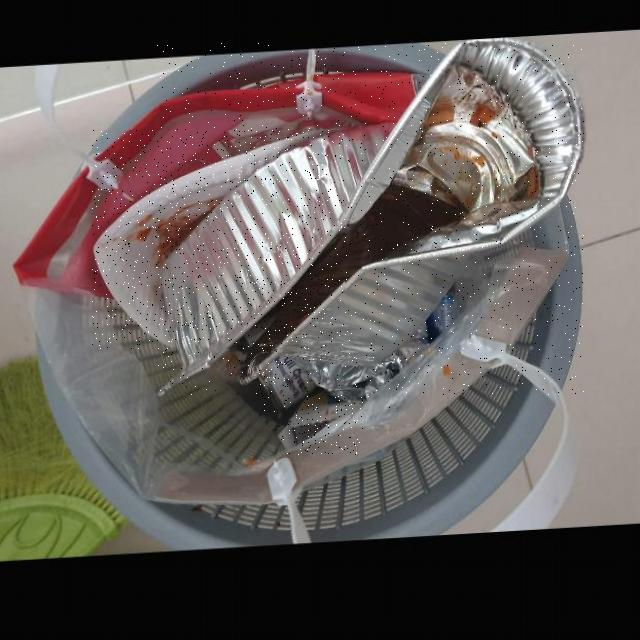metal: (157, 44, 584, 395), (292, 362, 392, 408), (259, 358, 314, 415)
paper: (93, 130, 345, 349), (278, 395, 363, 455)
